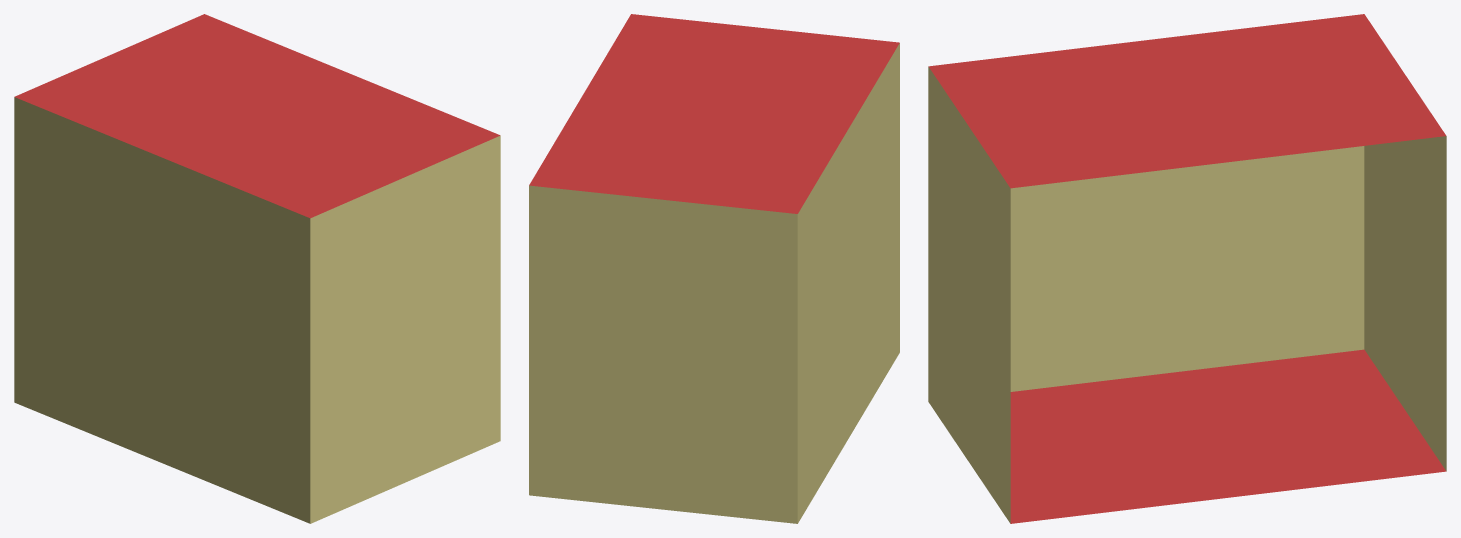
3 views of the same model, side by side, from view 1: azimuth 30°, elevation 25°; view 2: azimuth 150°, elevation 25°; view 3: azimuth 270°, elevation 25° (orthographic). The views are drawn at different scales.
Bounding box in the file's own units: 6.66 × 8.36 × 5.98.
